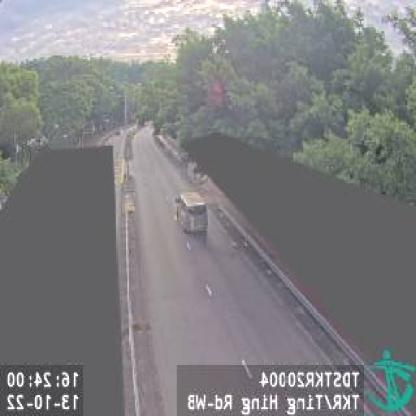Car: (175, 192, 207, 233)
